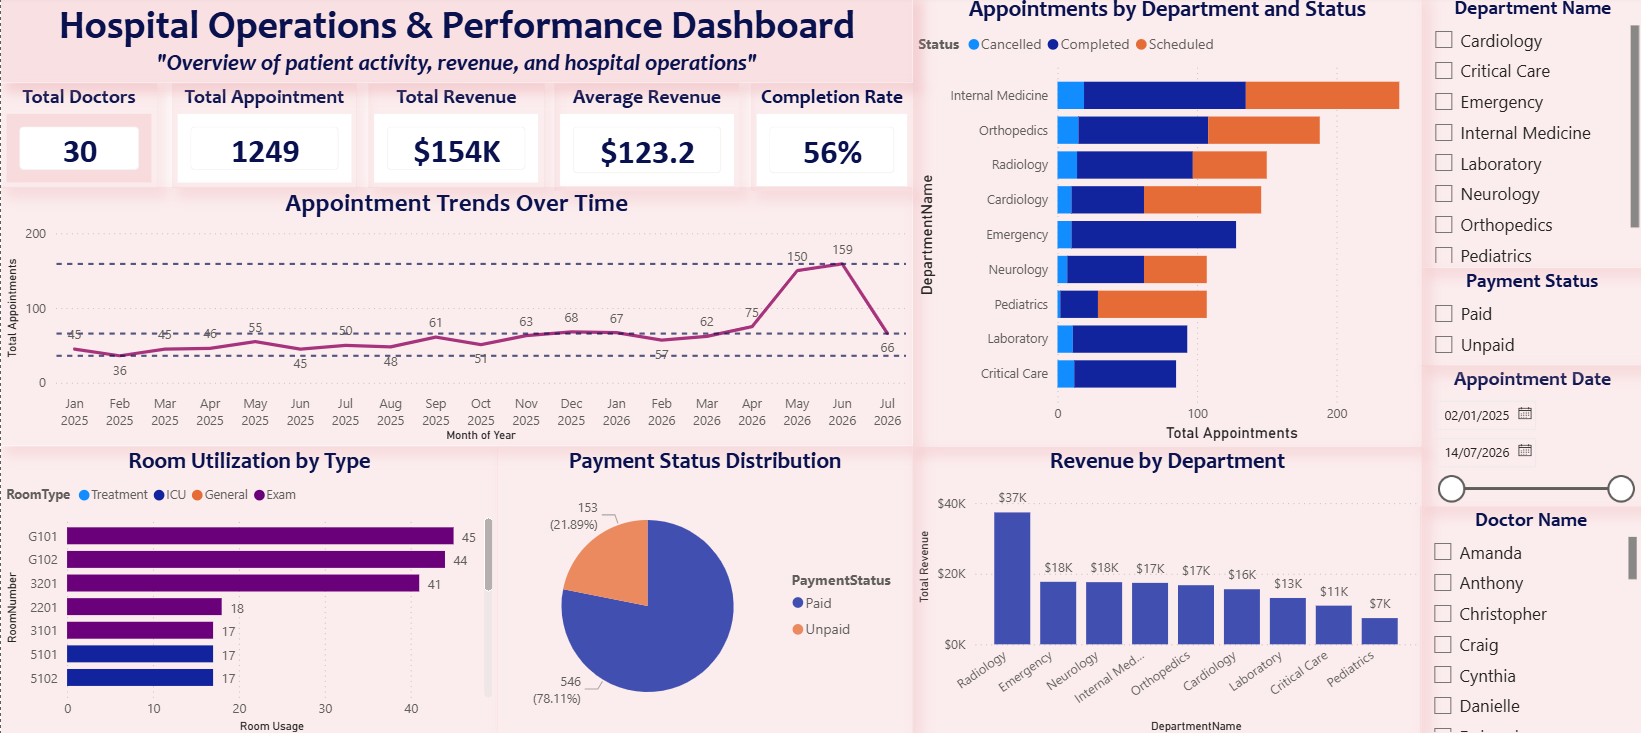

The dashboard page shown, as its layout file describes it:
{"tool":"powerbi","page":{"name":"Page 1","canvas":[1550,700],"ordinal":0},"visuals":[{"type":"cardVisual","title":"Total Doctors","fields":{"Data":["Doctor.Total Doctors"]},"box":[0,82.9,147.1,98.6],"z":0},{"type":"cardVisual","title":"Total Appointment","fields":{"Data":["Appointment.Total Appointments"]},"box":[161.4,82.9,174.3,98.6],"z":1000},{"type":"cardVisual","title":"Total Revenue","fields":{"Data":["Billing.Total Revenue"]},"box":[347.1,82.9,165.7,98.6],"z":2000},{"type":"cardVisual","title":"Average Revenue","fields":{"Data":["Billing.Avg Revenue per Appointment"]},"box":[522.9,82.9,174.3,101.4],"z":3000},{"type":"lineChart","title":"Appointment Trends Over Time","fields":{"Y":["Appointment.Total Appointments"],"Category":["Appointment.Month of Year"]},"box":[0,181.4,860,244.3],"z":4000},{"type":"barChart","title":"Appointments by Department and Status","fields":{"Category":["Department.DepartmentName"],"Y":["Appointment.Total Appointments"],"Series":["Appointment.Status"]},"box":[860,0,480,425.7],"z":5000},{"type":"clusteredColumnChart","title":"Revenue by Department","fields":{"Category":["Department.DepartmentName"],"Y":["Billing.Total Revenue"]},"box":[860,425.7,480,274.3],"z":6000},{"type":"pieChart","title":"Payment Status Distribution","fields":{"Category":["Billing.PaymentStatus"],"Y":["CountNonNull(Billing.BillingID)"]},"box":[468.6,425.7,391.4,274.3],"z":7000},{"type":"barChart","title":"Room Utilization by Type","fields":{"Y":["Room_Assignment.Room Usage"],"Series":["Room.RoomType"],"Category":["Room.RoomNumber"]},"box":[0,425.7,468.6,274.3],"z":8000},{"type":"slicer","title":"Appointment Date","fields":{"Values":["Appointment.AppointmentDate"]},"box":[1340.1,349.5,209.4,133],"z":9000},{"type":"slicer","title":"Department Name","fields":{"Values":["Department.DepartmentName"]},"box":[1340,0,210,257.1],"z":10000},{"type":"slicer","title":"Doctor Name","fields":{"Values":["Doctor.FirstName"]},"box":[1338.7,482.6,209.4,217.9],"z":11000},{"type":"slicer","title":"Payment Status","fields":{"Values":["Billing.PaymentStatus"]},"box":[1340,257.1,208.6,92.9],"z":12000},{"type":"textbox","box":[0,0,860,82.9],"z":13000},{"type":"cardVisual","title":"Completion Rate","fields":{"Data":["Appointment.Completion Rate"]},"box":[707.1,82.9,152.9,101.4],"z":14000}]}

Visuals, with their boxes in screenshot pixels (x1, y1, x2, y2), scaled from the page's 1550x700 canvas onto the 1641x733 screenshot:
"Total Doctors" cardVisual: BBox(0, 87, 156, 190)
"Total Appointment" cardVisual: BBox(171, 87, 355, 190)
"Total Revenue" cardVisual: BBox(367, 87, 543, 190)
"Average Revenue" cardVisual: BBox(554, 87, 738, 193)
"Appointment Trends Over Time" lineChart: BBox(0, 190, 910, 446)
"Appointments by Department and Status" barChart: BBox(910, 0, 1419, 446)
"Revenue by Department" clusteredColumnChart: BBox(910, 446, 1419, 732)
"Payment Status Distribution" pieChart: BBox(496, 446, 910, 732)
"Room Utilization by Type" barChart: BBox(0, 446, 496, 732)
"Appointment Date" slicer: BBox(1419, 366, 1640, 505)
"Department Name" slicer: BBox(1419, 0, 1640, 269)
"Doctor Name" slicer: BBox(1417, 505, 1639, 732)
"Payment Status" slicer: BBox(1419, 269, 1640, 366)
textbox: BBox(0, 0, 910, 87)
"Completion Rate" cardVisual: BBox(749, 87, 910, 193)
